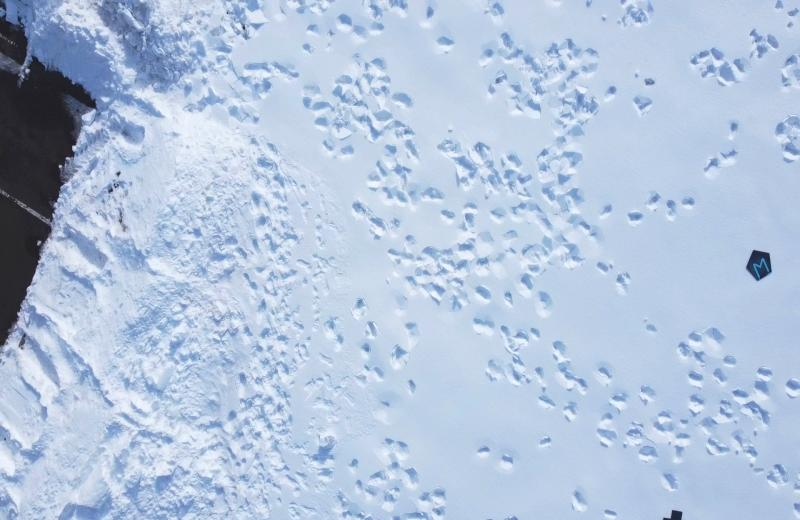Cross: (656, 472, 692, 520)
Pentagon: (736, 246, 778, 292)
